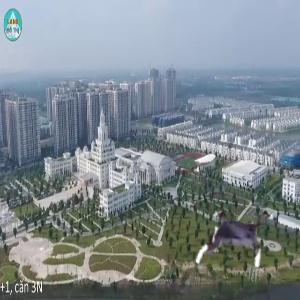drone: (194, 197, 278, 281)
